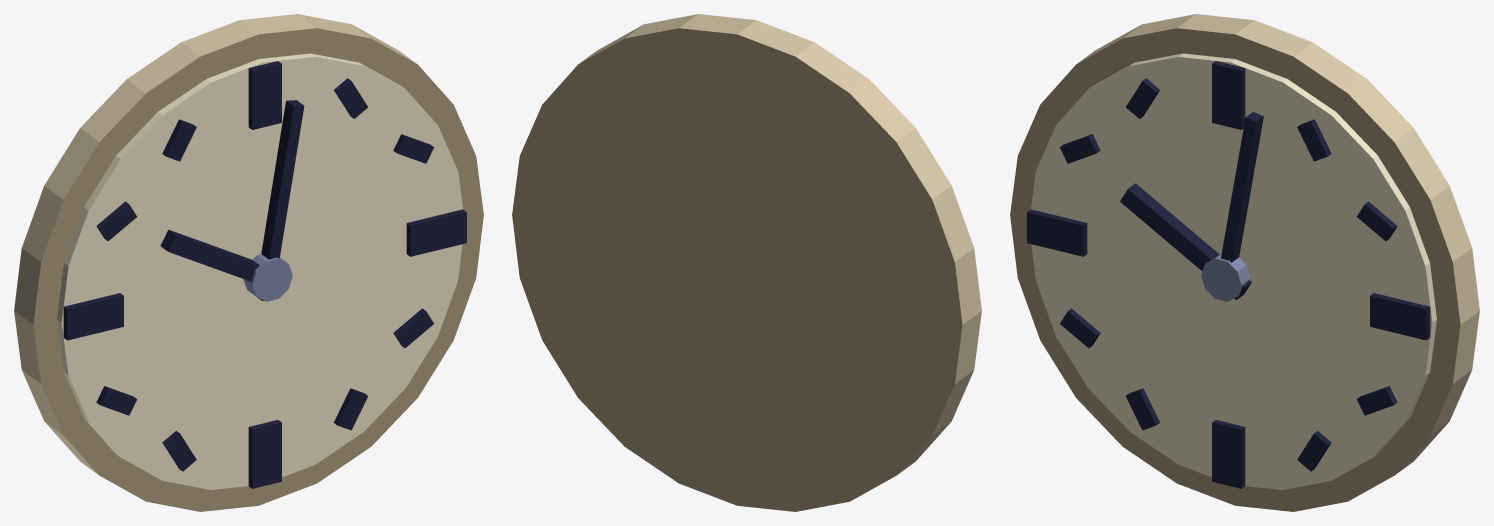
Rendered from Clock_6.fbx.
3 views of the same model, side by side, from view 1: azimuth 30°, elevation 25°; view 2: azimuth 150°, elevation 25°; view 3: azimuth 330°, elevation 25° (orthographic).
Parts seen in each view (by area): view 1: Clock_6; view 2: Clock_6; view 3: Clock_6.
Boxes of the visible parts, x1,y1,x2,y2 form: Clock_6: (14, 14, 483, 511); Clock_6: (512, 14, 981, 511); Clock_6: (1010, 14, 1479, 511).
Bounding box in the file's own units: 6.7 × 6.7 × 0.86.
Materials: 1 (1 with a texture image).
